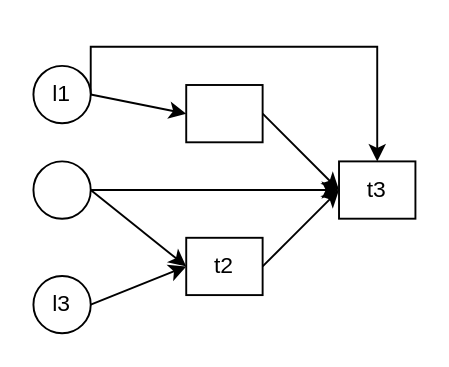
The diagram is 449 pixels wide and 367 high, and some of its shapes have lost their labels. The shapes that lost their labels are listed below. From the top down, each one's box as (x1, y1, x2, y2) in pixels, then its label:
(184, 83, 263, 142): t1
(32, 159, 91, 219): l2
